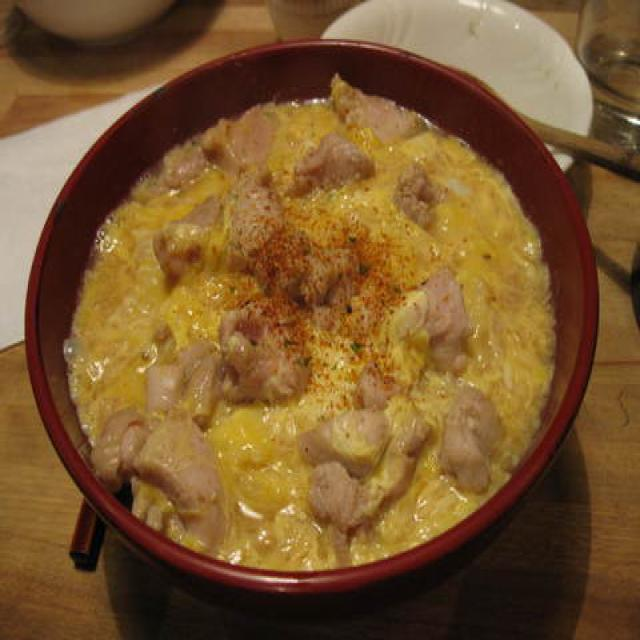米饭主食: (37, 64, 564, 578)
